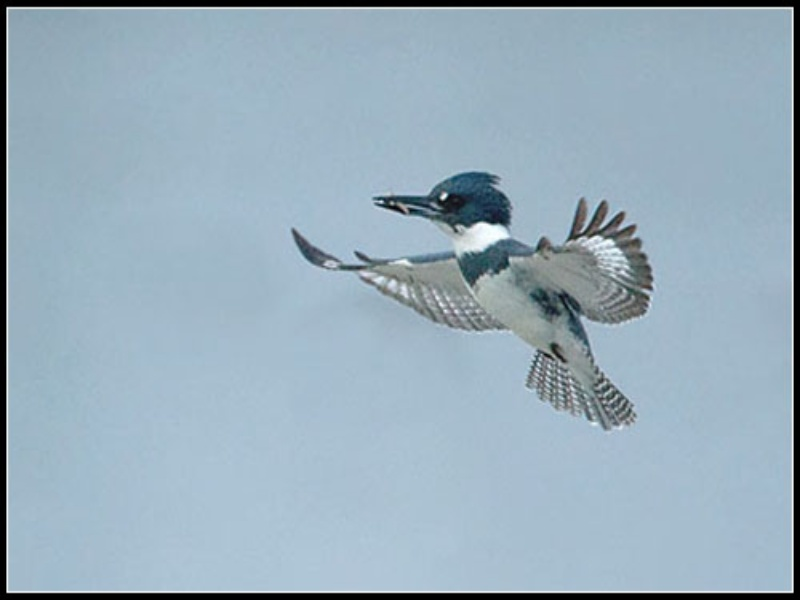kingfisher: (285, 167, 658, 436)
